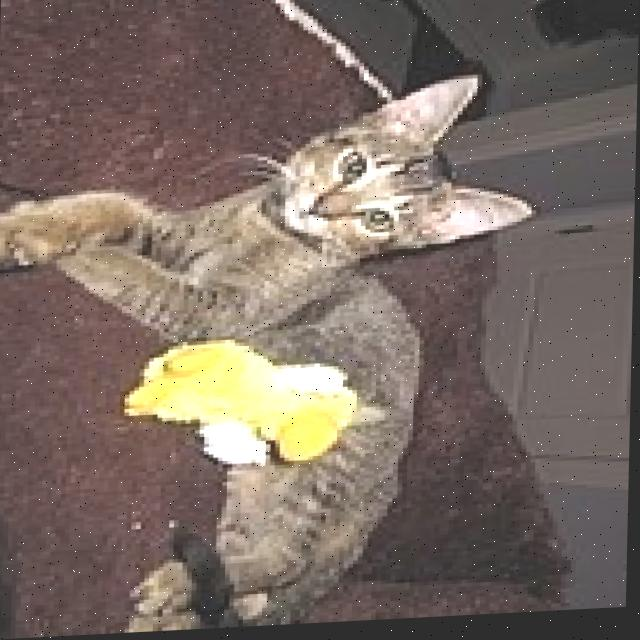Abyssinian: (0, 67, 543, 640)
